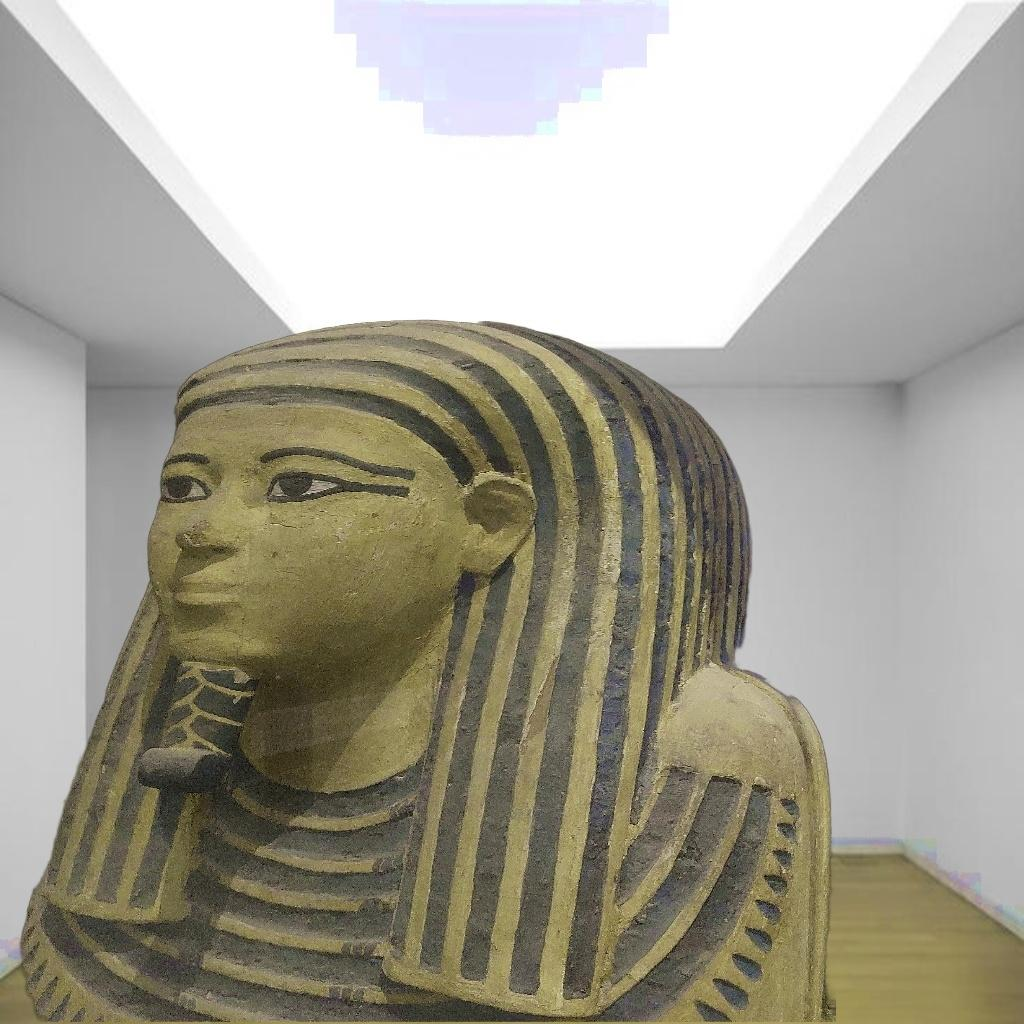Coffin of Ahmose I: (14, 316, 836, 1022)
